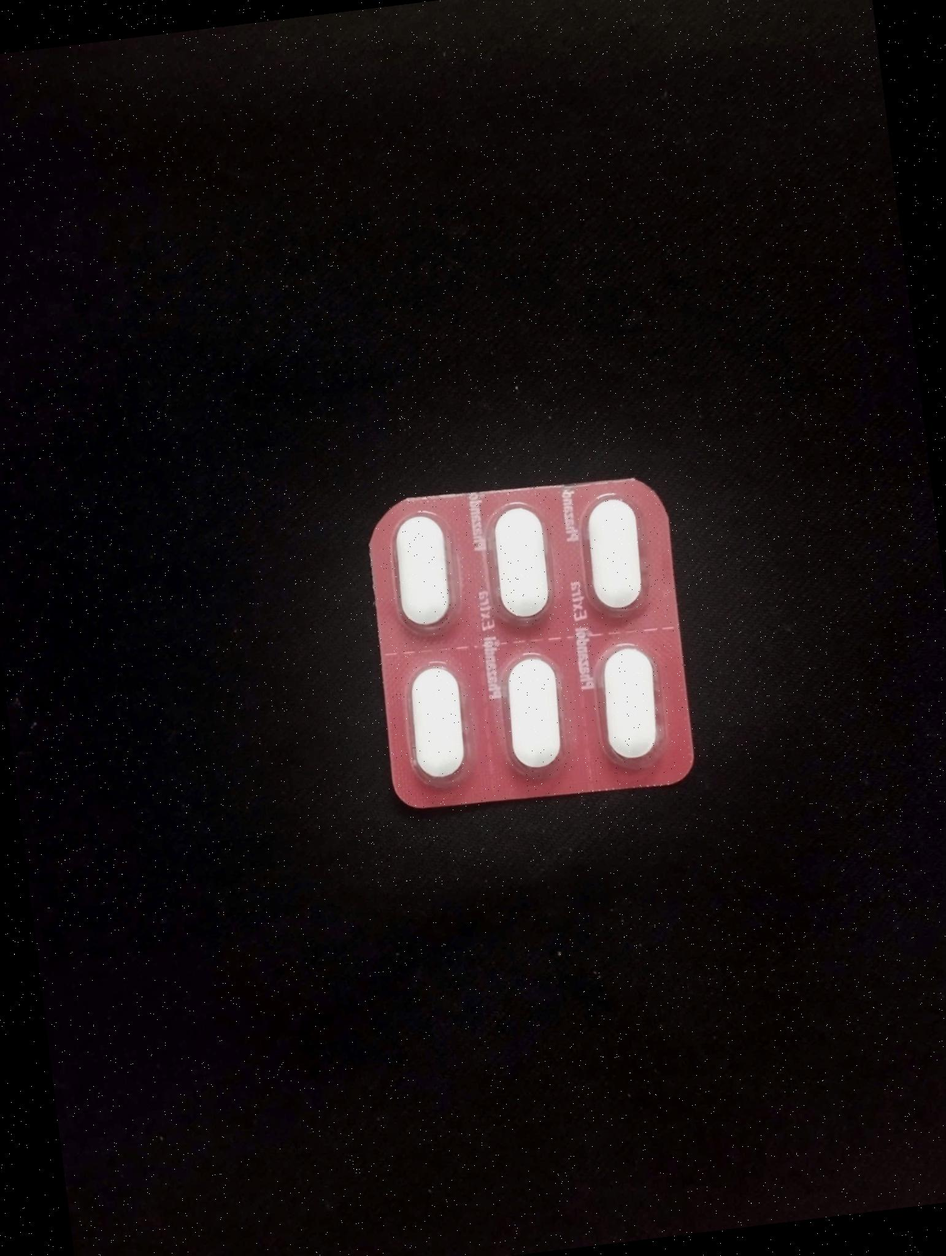Full: (494, 646, 571, 776), (480, 499, 558, 625), (382, 508, 460, 633), (398, 662, 474, 784), (578, 492, 649, 615), (593, 641, 664, 764)
